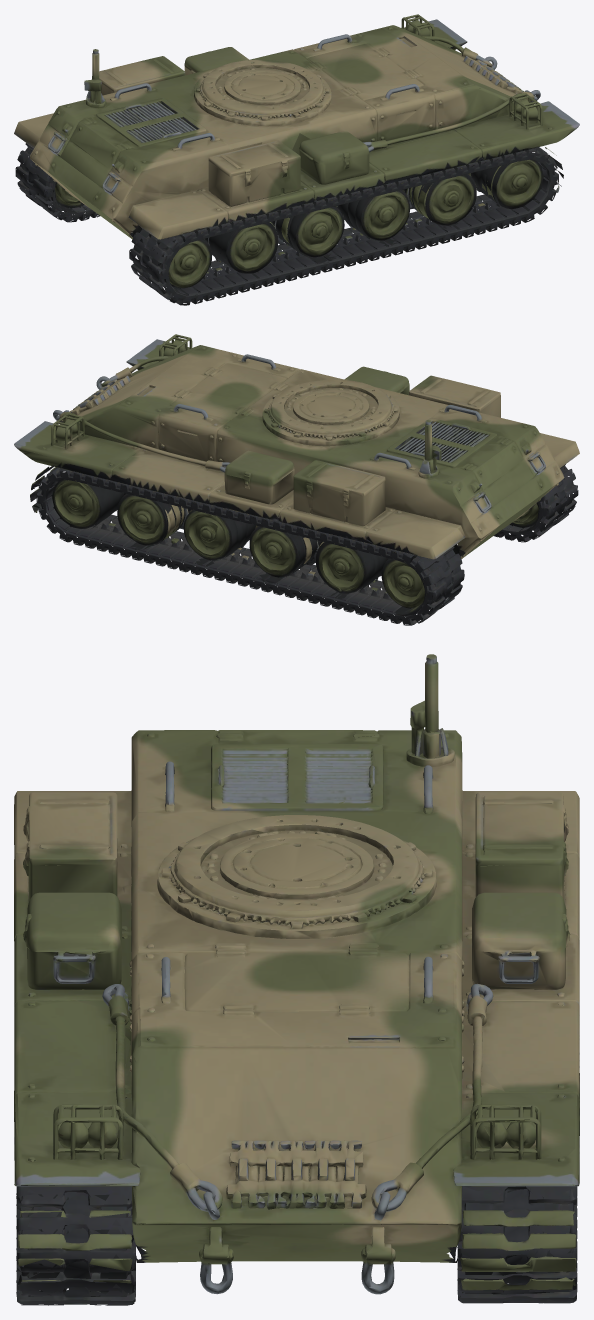
File: chassis-vanguard-0-full.glb
3 views of the same model, one above another, from view 1: azimuth 30°, elevation 25°; view 2: azimuth 150°, elevation 25°; view 3: azimuth 270°, elevation 25° (orthographic). The views are drawn at different scales.
Parts seen in each view (by area): view 1: chassis-vanguard-0-full; view 2: chassis-vanguard-0-full; view 3: chassis-vanguard-0-full.
Boxes of the visible parts, x1=… form: chassis-vanguard-0-full: x1=14, y1=14, x2=579, y2=305; chassis-vanguard-0-full: x1=14, y1=334, x2=579, y2=625; chassis-vanguard-0-full: x1=14, y1=654, x2=579, y2=1305.
Bounding box in the file's own units: 2.61 × 0.974 × 1.47.
1 material, 1 textured.
